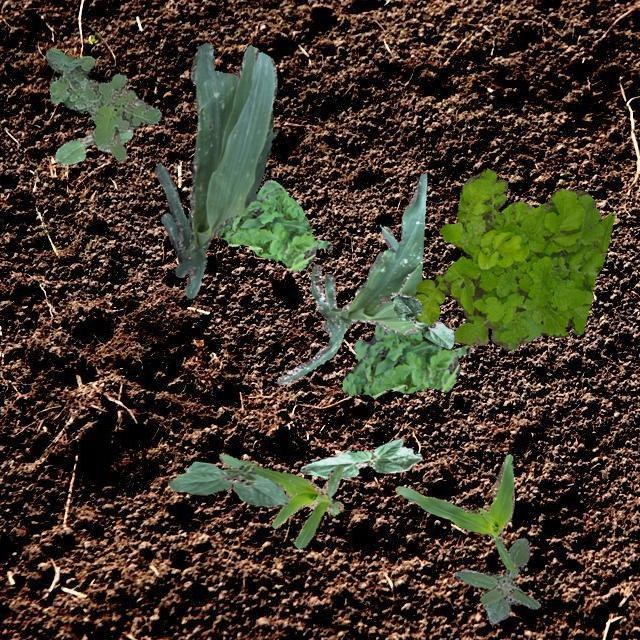crop: (277, 172, 425, 384), (154, 41, 276, 298), (394, 454, 514, 570), (218, 452, 342, 548), (168, 460, 288, 506), (300, 437, 420, 478), (390, 292, 452, 348), (54, 126, 132, 166)
weed: (412, 168, 614, 350), (44, 46, 160, 160), (214, 178, 330, 270), (340, 324, 470, 396), (454, 536, 540, 622)
